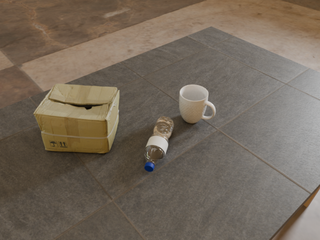bottle: (144, 116, 174, 172)
box: (34, 84, 119, 153)
cup: (179, 85, 215, 123)
